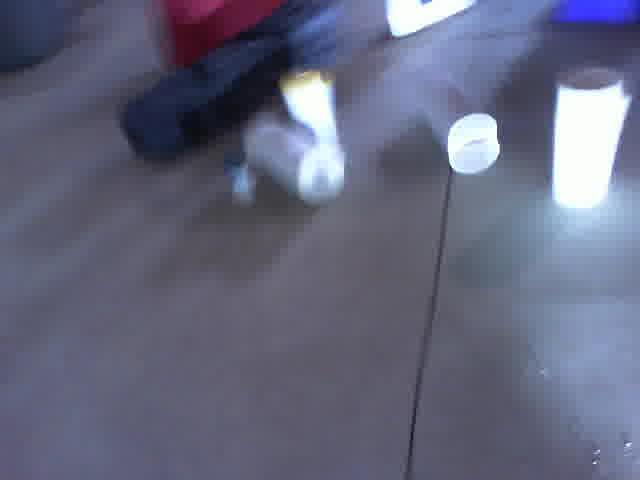coral: (546, 57, 640, 213), (414, 64, 512, 179)
